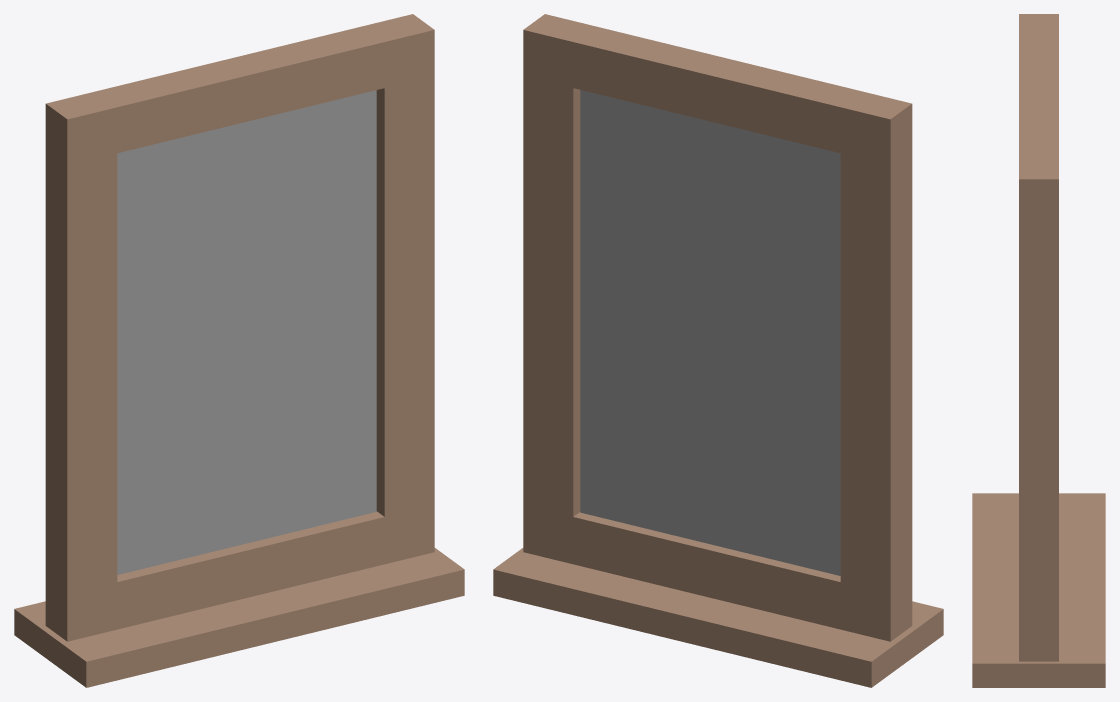
File: Window_4D.fbx
3 renders of one model, left to right at view 1: azimuth 30°, elevation 25°; view 2: azimuth 150°, elevation 25°; view 3: azimuth 270°, elevation 25°, orthographic. The views are drawn at different scales.
Parts seen in each view (by area): view 1: polySurface1626, Window_Glass_4; view 2: polySurface1626, Window_Glass_4; view 3: polySurface1626.
Boxes of the visible parts, left/top/right/bottom form: polySurface1626: left=14, top=14, right=464, bottom=687; Window_Glass_4: left=117, top=90, right=376, bottom=574; polySurface1626: left=493, top=14, right=943, bottom=687; Window_Glass_4: left=580, top=90, right=840, bottom=575; polySurface1626: left=972, top=14, right=1105, bottom=687.
Bounding box in the file's own units: 1.51 × 2.09 × 0.5.
2 materials, 1 textured.
